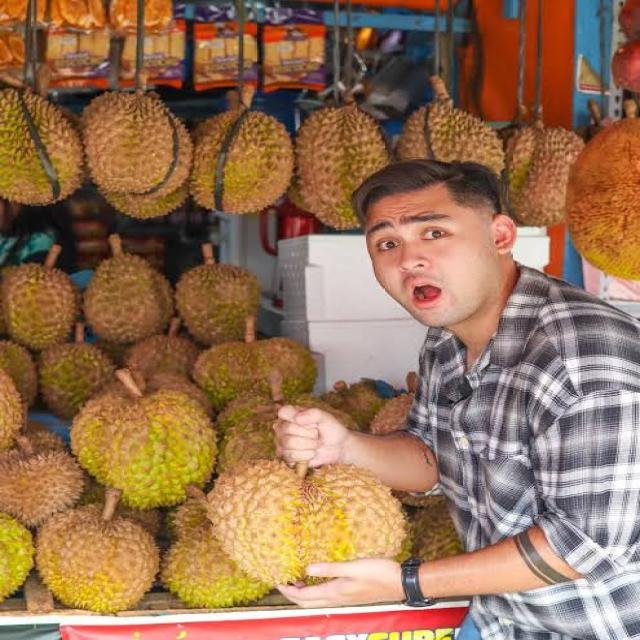mature: (208, 457, 418, 604), (70, 388, 222, 507), (37, 504, 160, 614), (184, 105, 296, 220), (76, 90, 191, 196), (289, 107, 388, 230), (189, 338, 324, 405), (173, 255, 269, 348), (0, 87, 77, 202), (76, 251, 175, 339), (0, 251, 81, 352), (0, 442, 75, 523)
